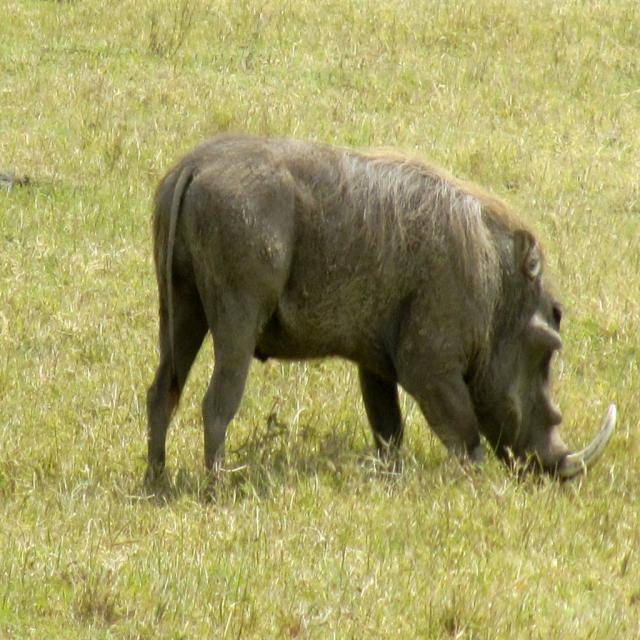Pig: (143, 132, 617, 501)
